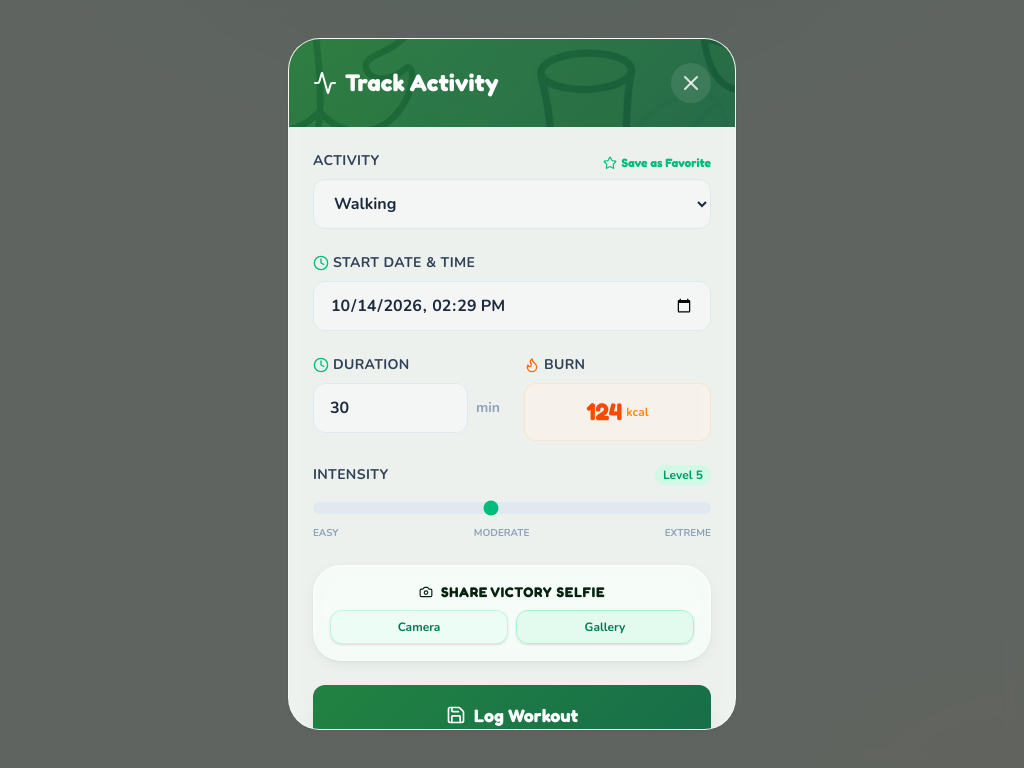
Test case: ActivityTrackerModal - Saved Activities › allows saving a new favorite activity
The image size is (1024, 768).
// Set up an activity
Select "Yoga" in the dropdown at point(512, 204), box [313,179,711,229]
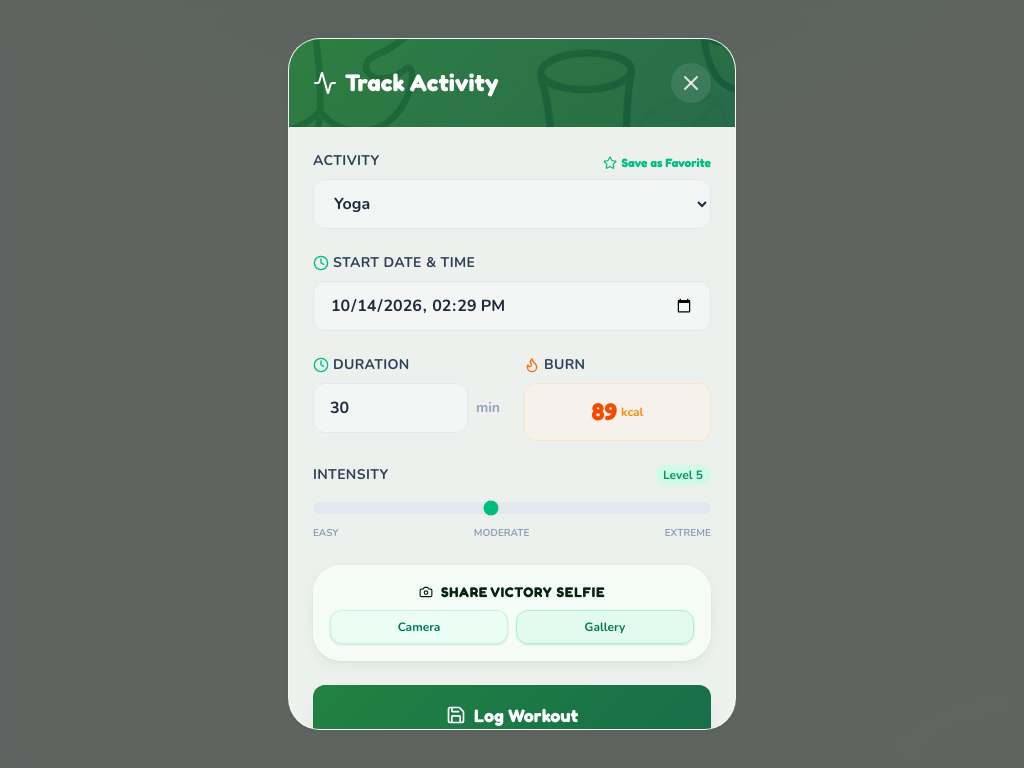
Replace the text in the number field showing "30" with "45" at point(390, 408), box [313,383,468,433]
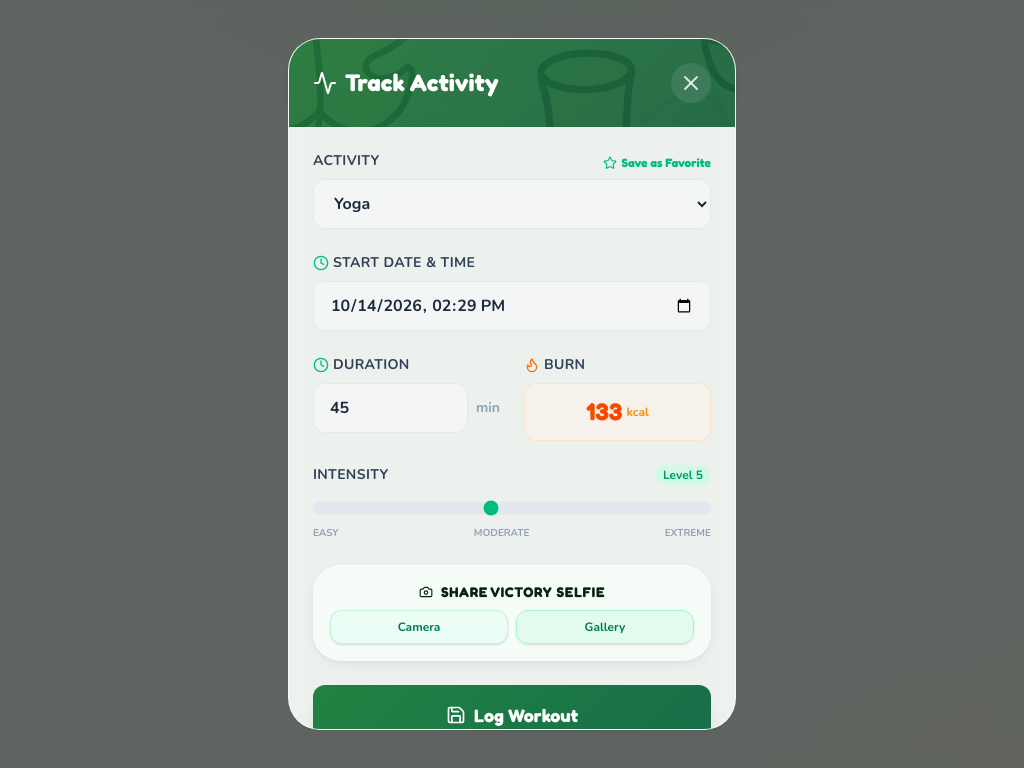
// Click "Save as Favorite"
Click the button "Save as Favorite" at point(657, 163), box [603,155,711,171]
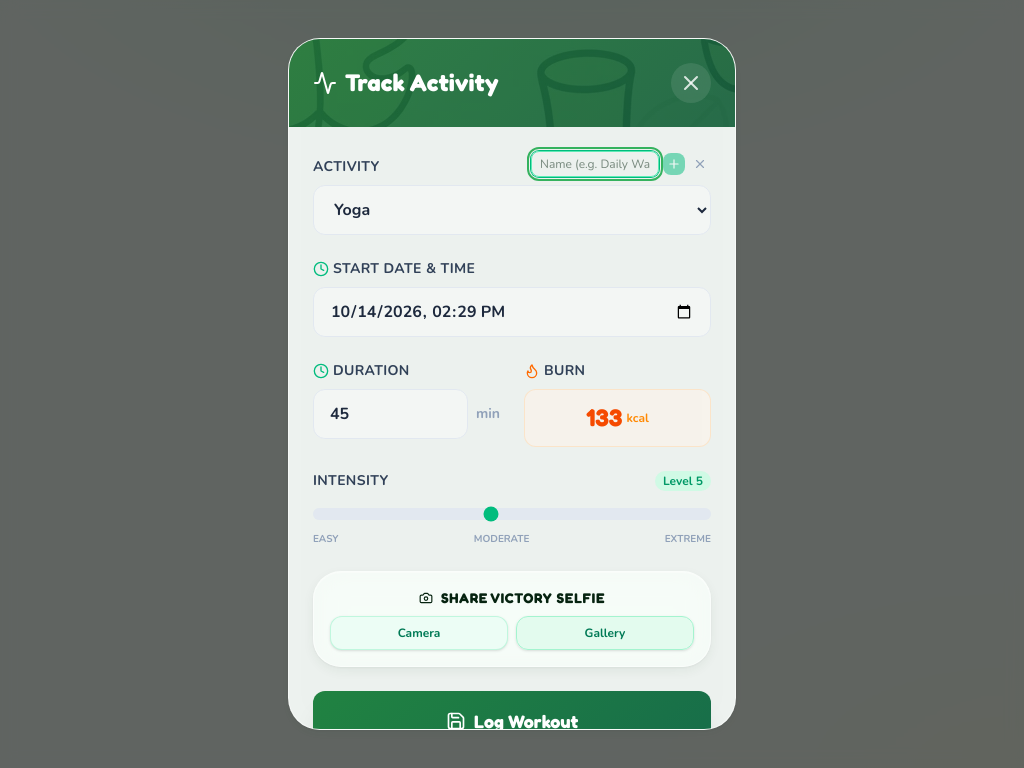
// Enter name
Type "Morning Flow" into the field with placeholder "Name (e.g. Daily Walk)" at point(595, 164), box [531,151,659,177]
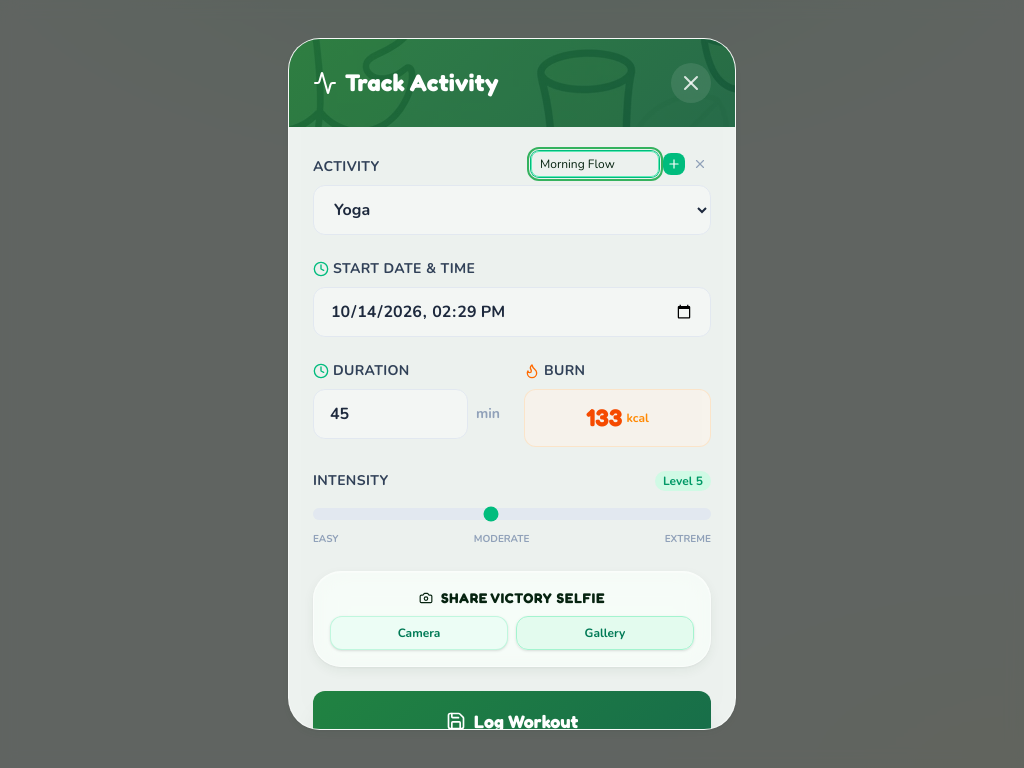
// Better approach: Select by parent or sibling structure
Click the 2nd button at point(674, 164), box [663,153,685,175]
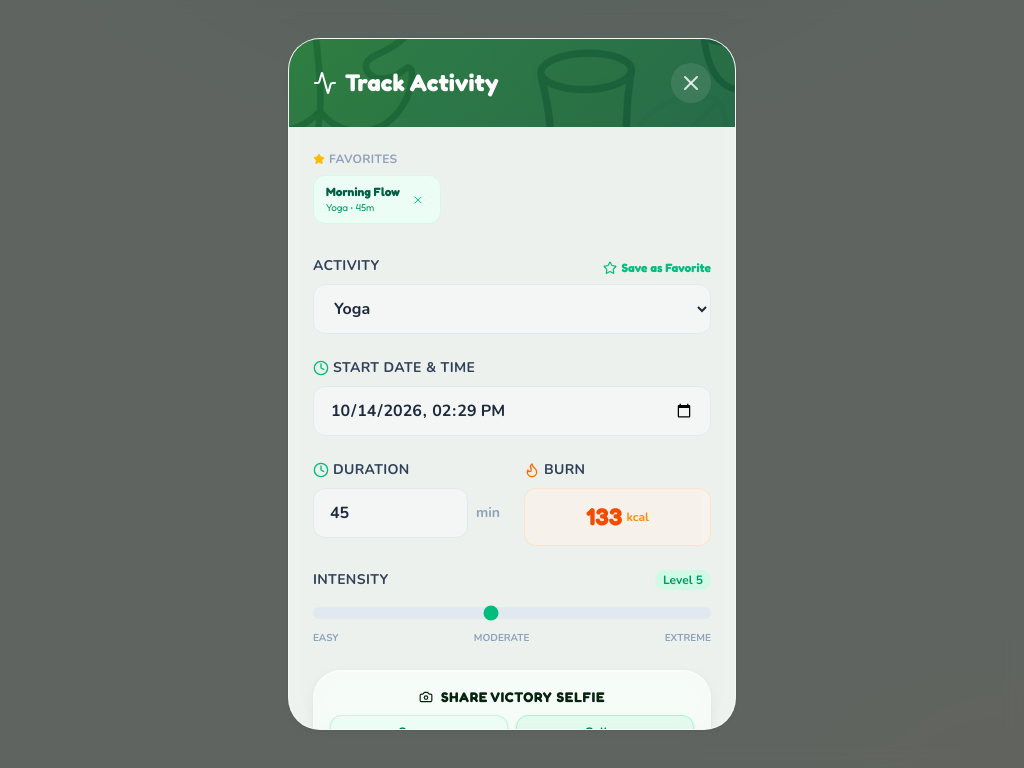
Result: the text "Morning Flow" is shown at [326,184,400,200]
Result: the text "Yoga • 45m" is shown at [326,201,374,213]
